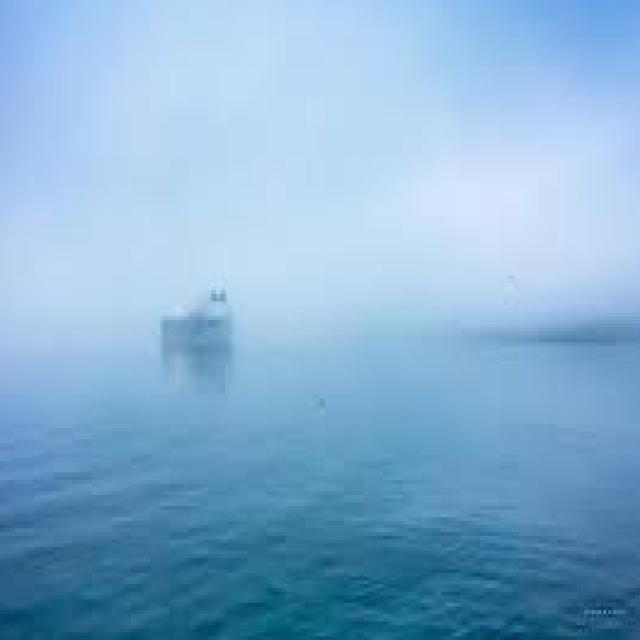cargoship: (148, 266, 238, 357)
